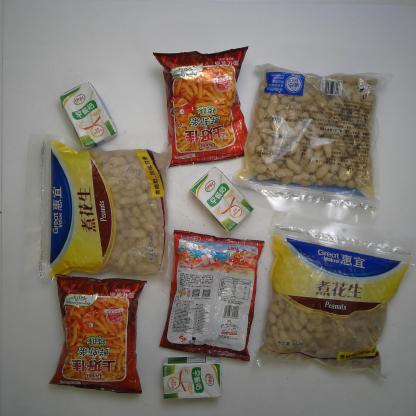Dried Food: (256, 209, 414, 379), (231, 62, 391, 224), (22, 134, 172, 281)
Milk: (190, 167, 254, 232), (58, 81, 118, 150), (161, 355, 223, 402)
Puffed Food: (158, 229, 264, 362), (153, 44, 250, 167), (47, 274, 146, 394)
